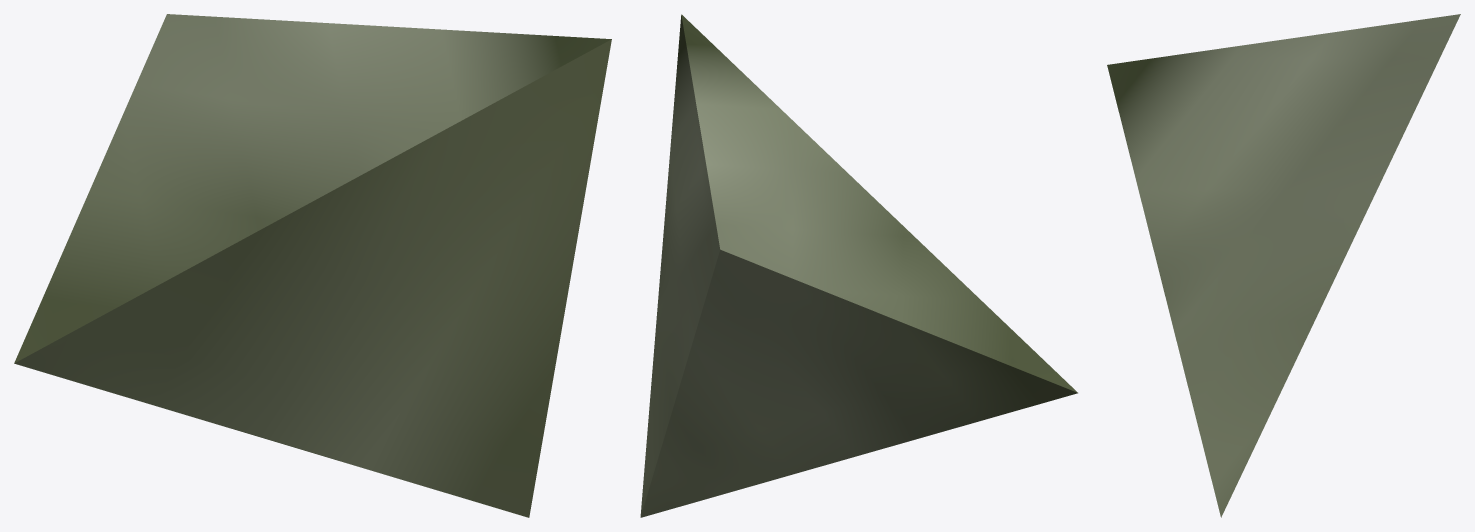
3 renders of one model, left to right at view 1: azimuth 30°, elevation 25°; view 2: azimuth 150°, elevation 25°; view 3: azimuth 270°, elevation 25°, orthographic. The views are drawn at different scales.
Bounding box in the file's own units: 0.0503 × 0.0478 × 0.0333.
Materials: 1 (1 with a texture image).
